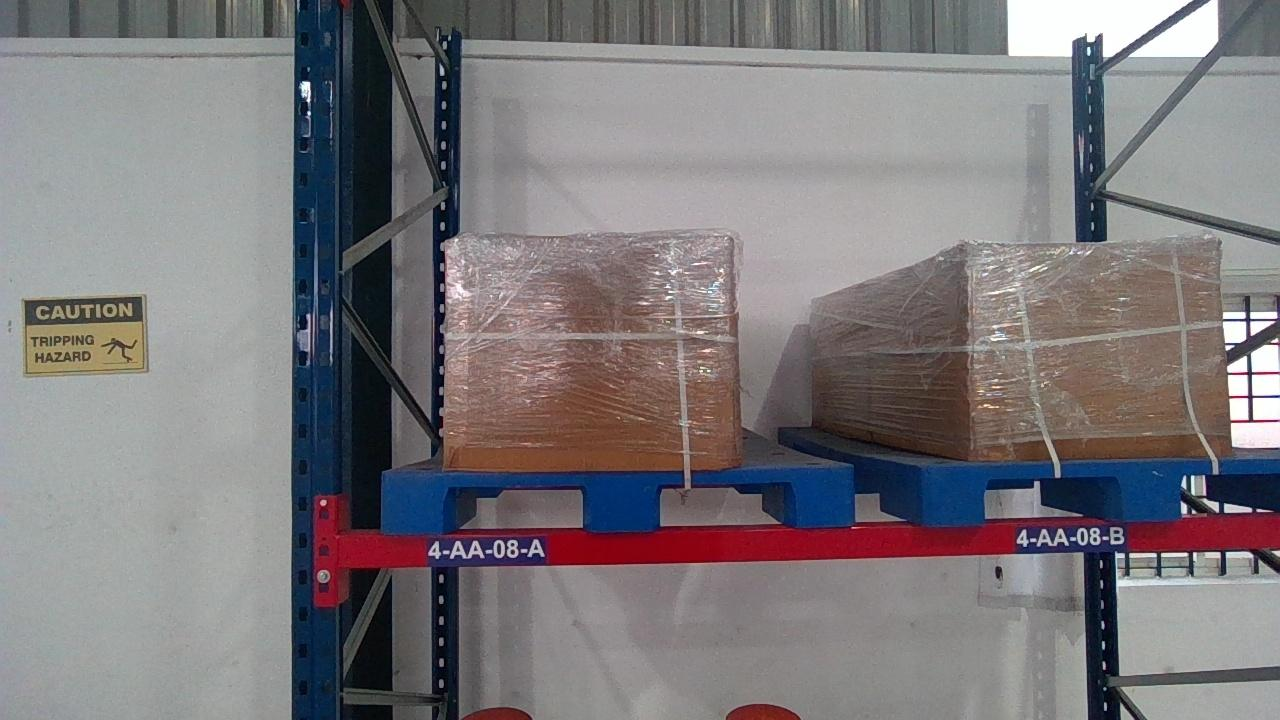h_rack: (340, 519, 1278, 567)
small_pallet: (376, 469, 857, 529), (917, 459, 1277, 519)
